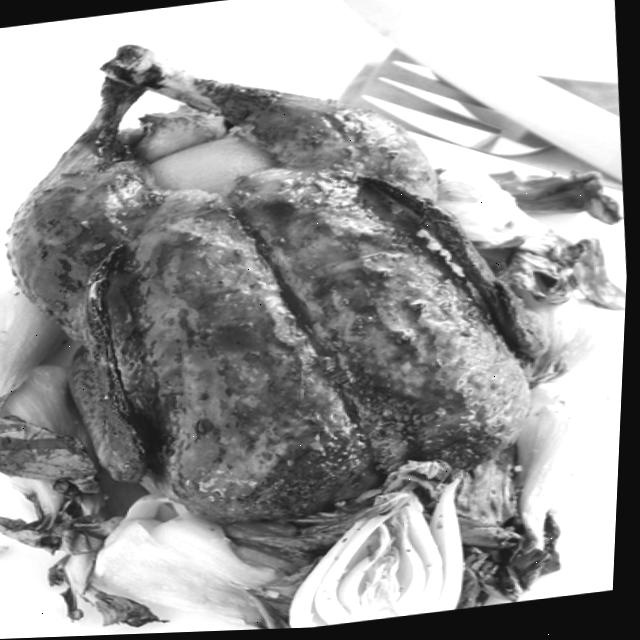烧串烤肉: (0, 8, 605, 640)
